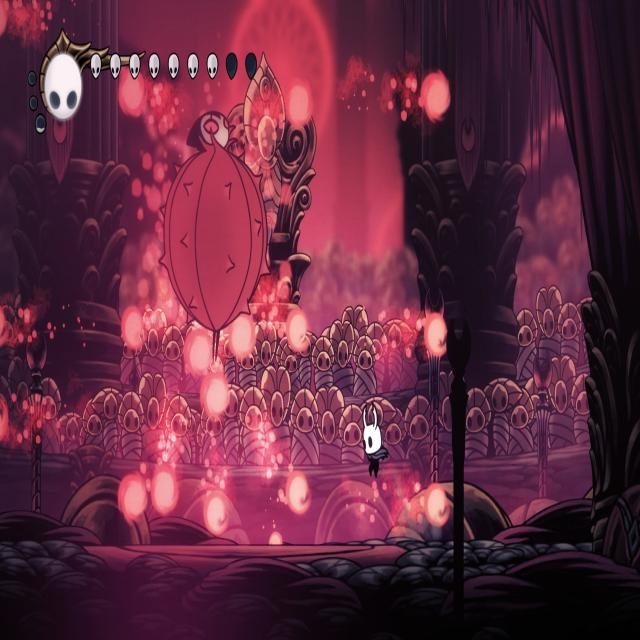Player: (358, 401, 391, 484)
Pufferfish: (157, 109, 273, 367)
Tiny Fireballs: (119, 67, 148, 120), (420, 72, 450, 123), (200, 373, 230, 420), (152, 465, 180, 515), (184, 331, 212, 379), (118, 474, 146, 522), (286, 82, 313, 131), (229, 316, 256, 362), (204, 492, 229, 536), (424, 483, 449, 527), (424, 316, 448, 360), (286, 311, 309, 355), (120, 306, 142, 351), (286, 472, 309, 514), (0, 396, 10, 444), (0, 0, 8, 37), (0, 302, 6, 350)
